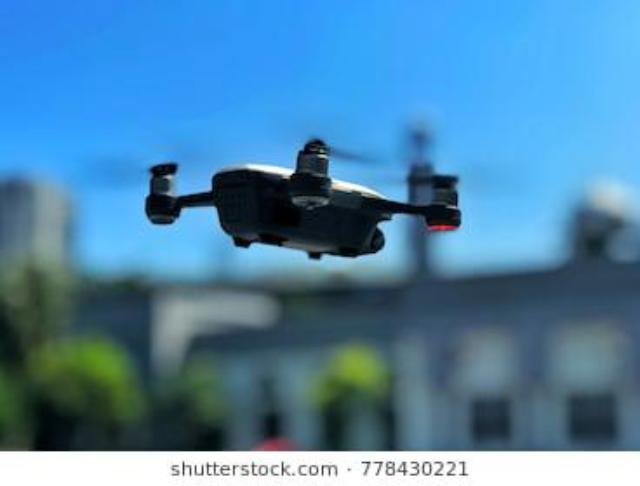drone: (80, 104, 486, 304)
